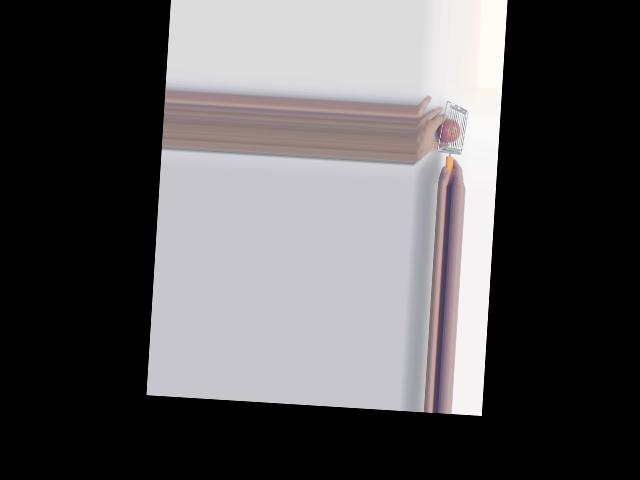tomato: (436, 118, 460, 144)
